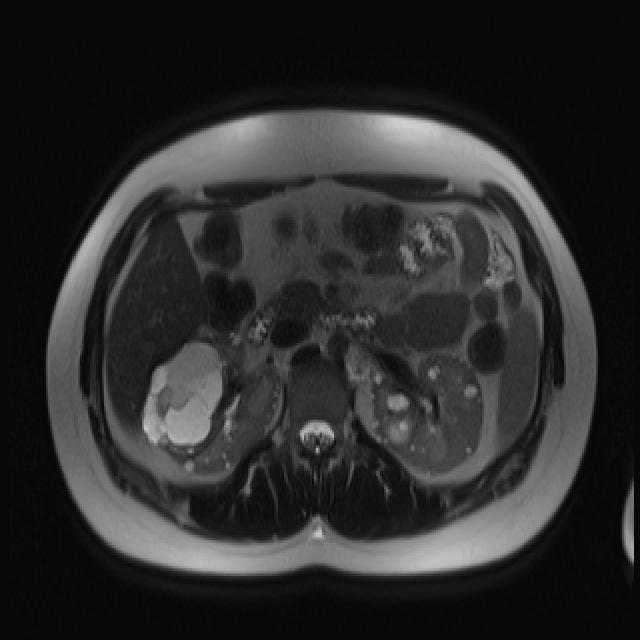sag: (142, 330, 282, 474)
sol: (370, 353, 485, 479)
